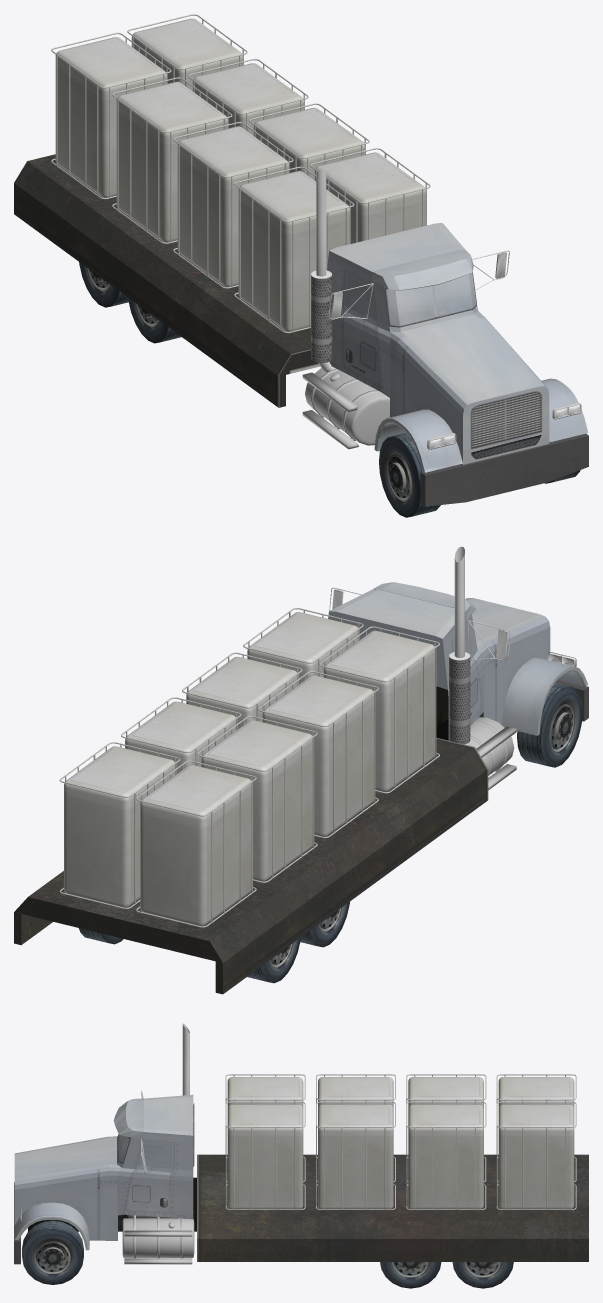
Rendered from ChemFracTruck.FBX.
3 renders of one model, top to bottom at view 1: azimuth 30°, elevation 25°; view 2: azimuth 150°, elevation 25°; view 3: azimuth 270°, elevation 25°, orthographic. The views are drawn at different scales.
Parts seen in each view (by area): view 1: cabin, Box014, Box021, Box019, Box020, Box018, front fender, Box017, Group_071, Box010, Box015, Box016 (+8 smaller); view 2: Box014, Box018, cabin, Box010, Box021, Box019, Box020, Box015, Box016, Box017, newtire008, right front wheel guard (+6 smaller); view 3: Box014, cabin, Box017, Box010, Box016, Box015, Group_071, newtire016, Box021, Box018, Box020, Box019 (+10 smaller).
Boxes of the visible parts, <box> form: cabin: <box>327,223,549,464</box>; Box014: <box>14,154,320,407</box>; Box021: <box>238,171,350,331</box>; Box019: <box>116,81,228,242</box>; Box020: <box>177,126,289,287</box>; Box018: <box>55,37,167,197</box>; front fender: <box>420,433,588,506</box>; Box017: <box>314,152,426,243</box>; Group_071: <box>302,368,389,449</box>; Box010: <box>131,18,243,90</box>; Box015: <box>192,63,304,135</box>; Box016: <box>253,107,365,180</box>; Box014: <box>14,737,488,994</box>; Box018: <box>140,765,251,926</box>; cabin: <box>328,589,550,740</box>; Box010: <box>64,746,175,907</box>; Box021: <box>323,630,434,792</box>; Box019: <box>201,720,312,881</box>; Box020: <box>262,675,373,836</box>; Box015: <box>125,701,236,773</box>; Box016: <box>186,656,297,728</box>; Box017: <box>247,612,358,684</box>; newtire008: <box>517,682,582,767</box>; right front wheel guard: <box>502,657,588,735</box>; Box014: <box>197,1154,588,1261</box>; cabin: <box>14,1094,193,1240</box>; Box017: <box>227,1104,303,1208</box>; Box010: <box>498,1104,574,1208</box>; Box016: <box>318,1104,393,1208</box>; Box015: <box>408,1104,483,1208</box>; Group_071: <box>122,1215,194,1264</box>; newtire016: <box>22,1220,83,1284</box>; Box021: <box>227,1077,303,1108</box>; Box018: <box>498,1077,574,1108</box>; Box020: <box>318,1077,393,1108</box>; Box019: <box>408,1077,483,1108</box>.
Bounding box in the file's own units: 88.29 × 113 × 285.
Materials: 7 (4 with a texture image).
